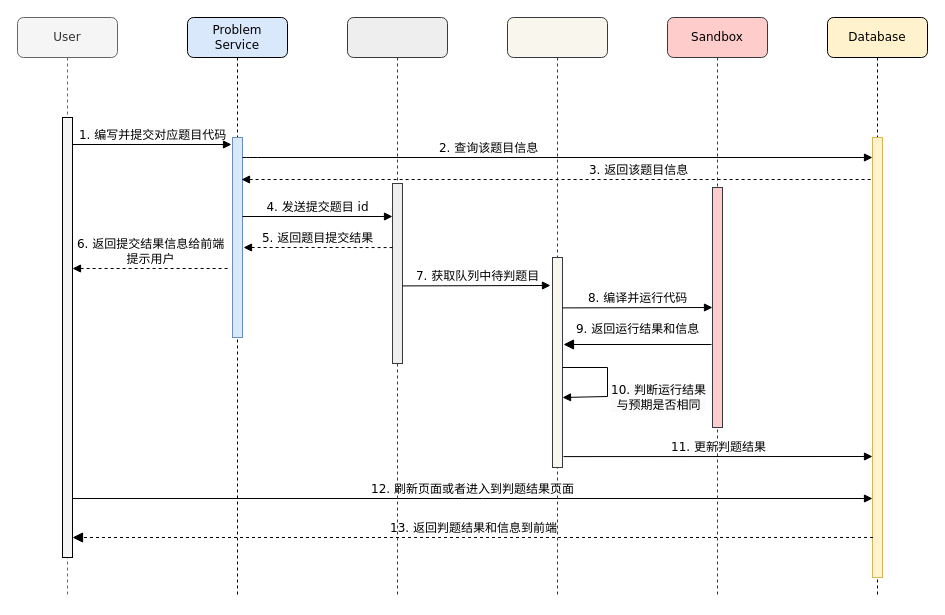
Image size: 945x615. Some labels were removed from this diagram. Here are the shapes that lost their labels. From the top down, the box of each, then its label:
(346, 16, 448, 598): MQ
(506, 16, 608, 598): Judge Service
